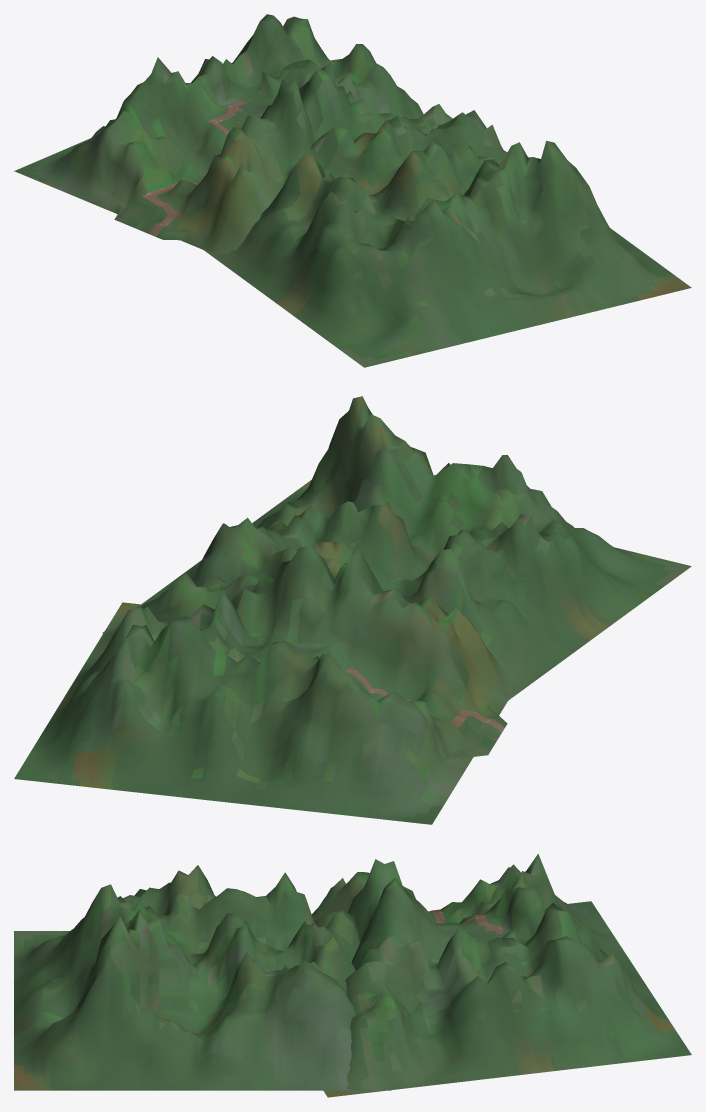
File: hills2.glb
3 renders of one model, top to bottom at view 1: azimuth 30°, elevation 25°; view 2: azimuth 150°, elevation 25°; view 3: azimuth 270°, elevation 25°, orthographic. The views are drawn at different scales.
Parts seen in each view (by area): view 1: Landscape.010, Landscape.012; view 2: Landscape.012, Landscape.010; view 3: Landscape.010, Landscape.012.
Part boxes in pixels (x1,y1,x2,y2): Landscape.010: (204, 110, 691, 367); Landscape.012: (14, 14, 507, 254); Landscape.012: (14, 541, 512, 824); Landscape.010: (102, 396, 691, 700); Landscape.010: (14, 865, 391, 1090); Landscape.012: (311, 854, 691, 1097).
Size of the model in its own units: 49.21 by 15.25 by 71.78.
Materials: 2 (2 with a texture image).
